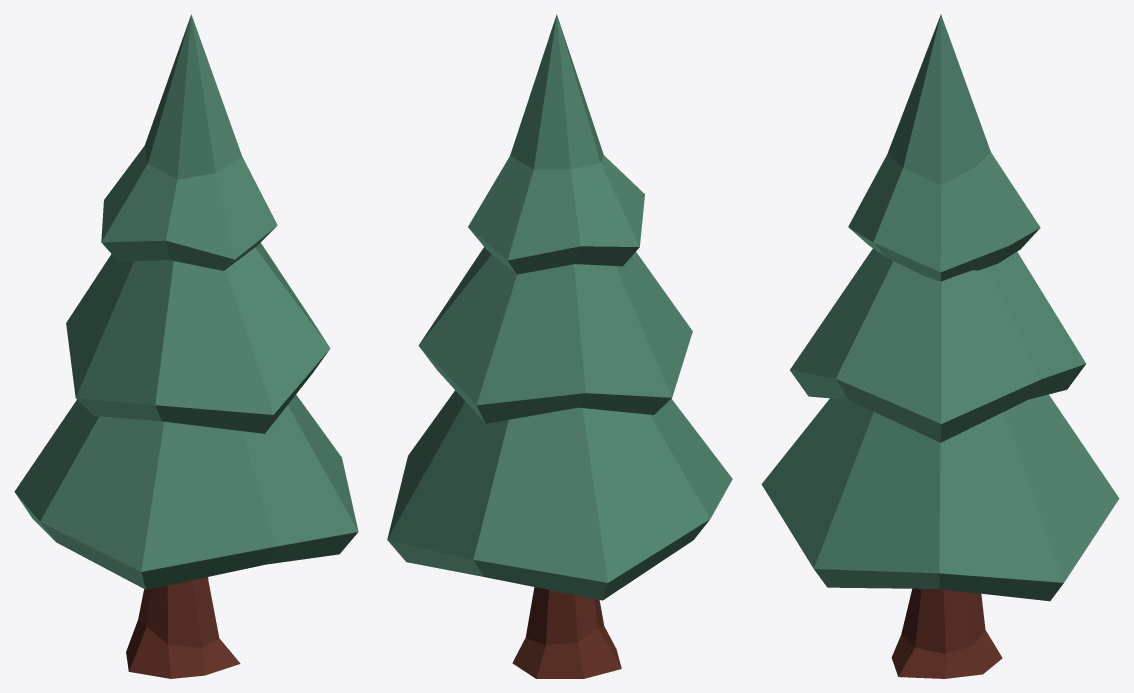
3 renders of one model, left to right at view 1: azimuth 30°, elevation 25°; view 2: azimuth 150°, elevation 25°; view 3: azimuth 270°, elevation 25°, orthographic.
Visible parts, largest first — view 1: Tree_Spruce_tiny_01; view 2: Tree_Spruce_tiny_01; view 3: Tree_Spruce_tiny_01.
Boxes of the visible parts, left/top/right/bottom form: Tree_Spruce_tiny_01: left=14, top=14, right=358, bottom=678; Tree_Spruce_tiny_01: left=387, top=14, right=732, bottom=678; Tree_Spruce_tiny_01: left=761, top=14, right=1119, bottom=678.
Bounding box in the file's own units: 0.0398 × 0.0806 × 0.0403.
